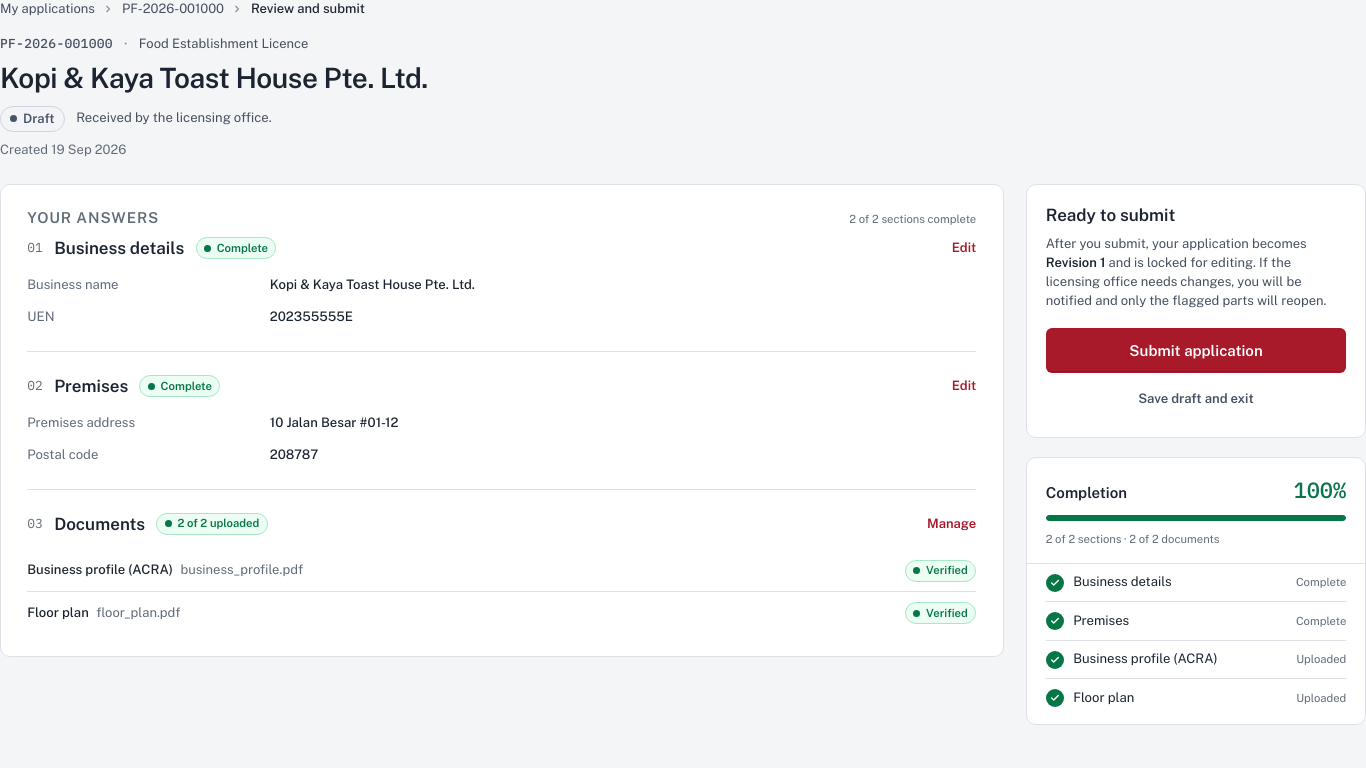
Test: Documents page and Review page with a blocked or scanning document (US-099) › a 409 documents_not_clear on submit shows the scan message, not "Already submitted"
The width and height of the screenshot is (1366, 768).
Click the button "Submit application".
click(1196, 351)  # box [1046,328,1346,373]
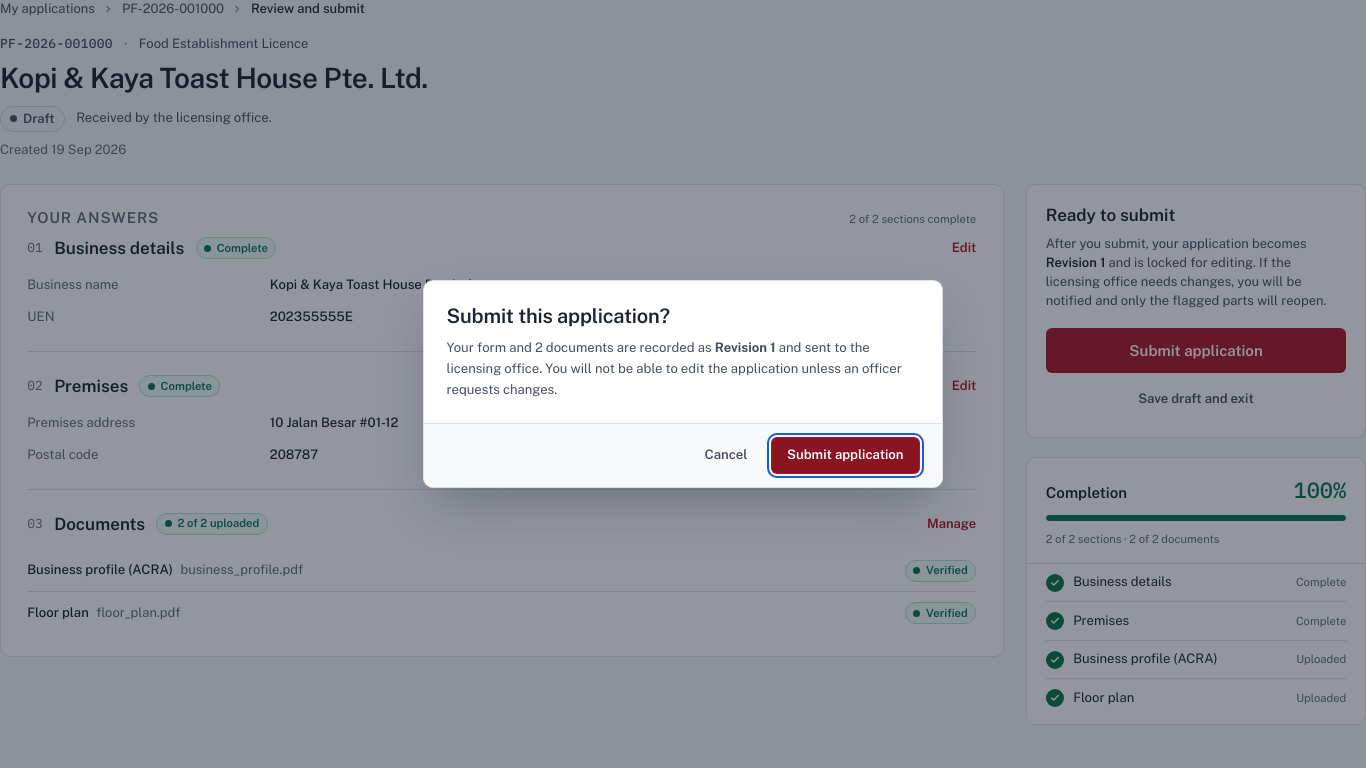
Click the button "Submit application".
click(845, 455)  # box [771,437,920,474]
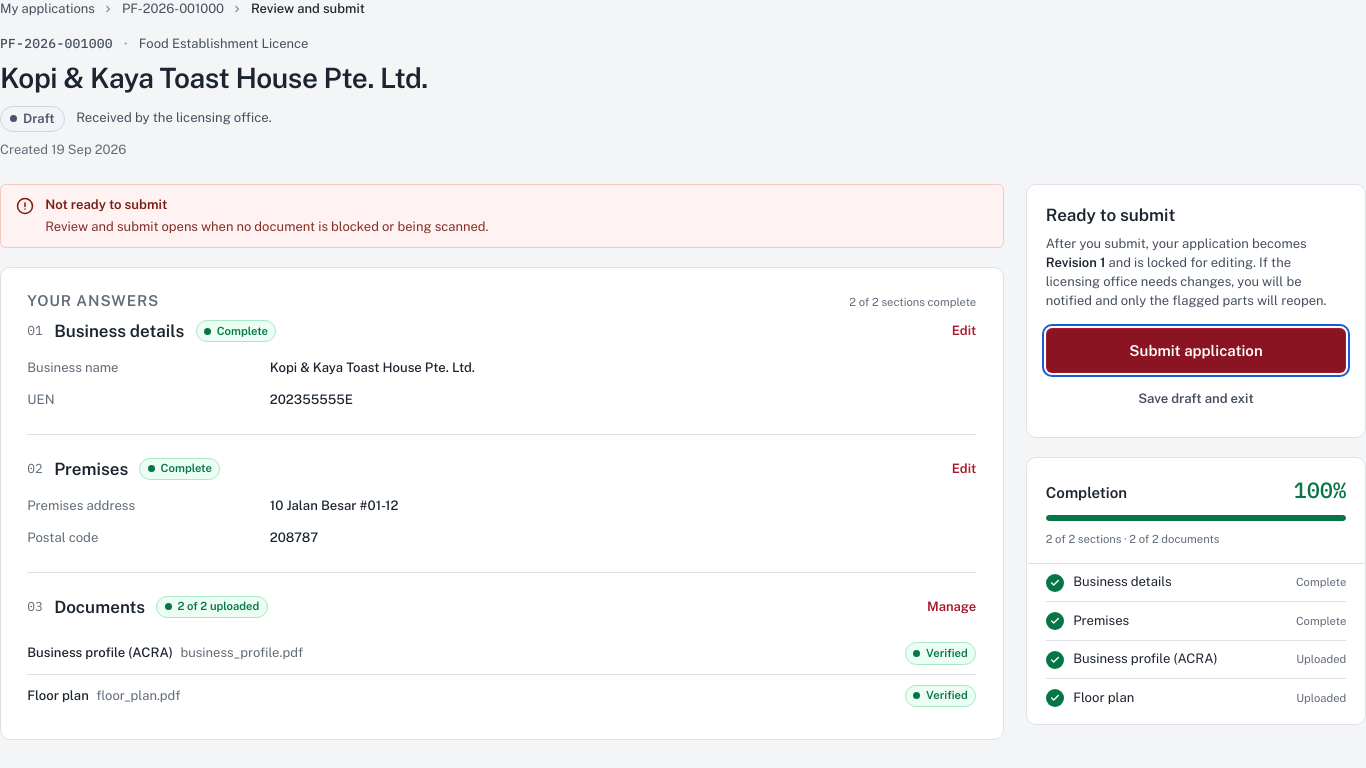
Expected: the text "Review and submit opens when no document is blocked or being scanned." is shown, [45,219,488,234]
